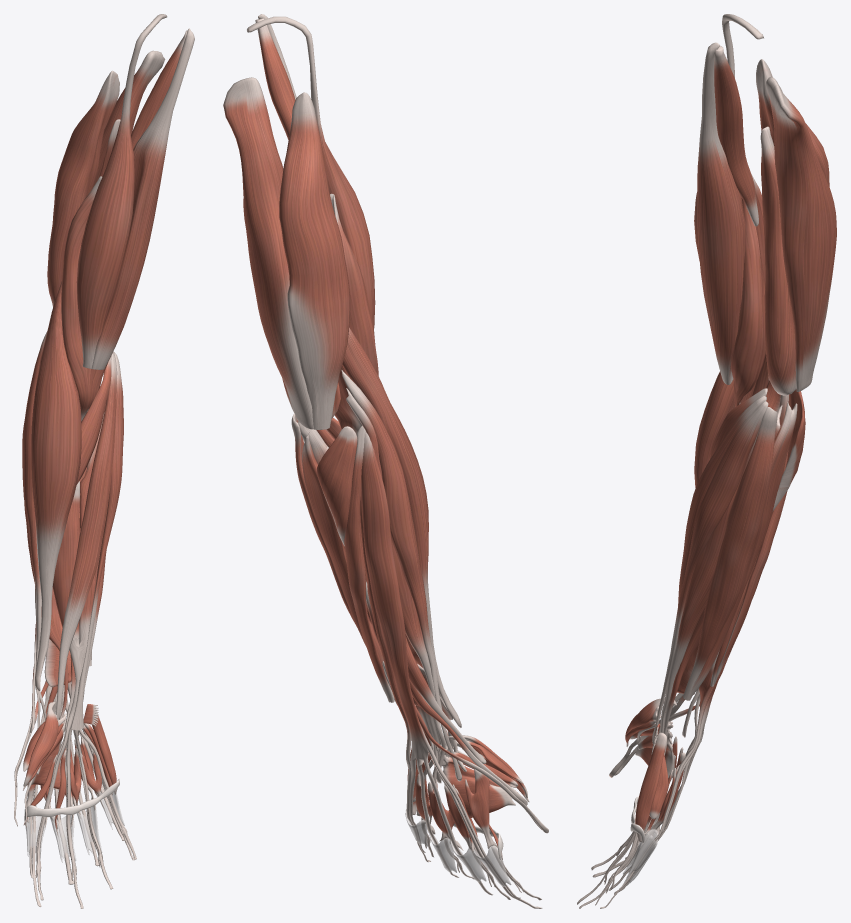
Rendered from aligned-upper-limb-muscular-01.glb.
3 views of the same model, side by side, from view 1: azimuth 30°, elevation 25°; view 2: azimuth 150°, elevation 25°; view 3: azimuth 270°, elevation 25° (orthographic). The views are drawn at different scales.
Visible parts, largest first — view 1: O3D_9e89c60e3ce5fd, O3D_4f05fbb6a5d880, O3D_7fe6b197454e19, O3D_3f43f7b57b2ec6, O3D_5e9e435e0b6f10, O3D_7323b5cf43fbce, O3D_fb440b163d8918, O3D_e4c41e680202dd, O3D_78041b7abde444, O3D_79e95492fe447a, O3D_e460fbdbbf3e1a, O3D_1ad320cb2b9dbf (+15 smaller); view 2: O3D_5e9e435e0b6f10, O3D_1ad320cb2b9dbf, O3D_e460fbdbbf3e1a, O3D_78041b7abde444, O3D_9e89c60e3ce5fd, O3D_4f05fbb6a5d880, O3D_c7940f27ad06f9, O3D_fb440b163d8918, O3D_2e79059d221fd7, O3D_5bf48100644f30, O3D_f44e08ea1e473d, O3D_def04b61de9843 (+9 smaller); view 3: O3D_1ad320cb2b9dbf, O3D_7fe6b197454e19, O3D_dbc8d5d864873b, O3D_4f4048b65ec332, O3D_fb440b163d8918, O3D_e4c41e680202dd, O3D_7323b5cf43fbce, O3D_def04b61de9843, O3D_5bf48100644f30, O3D_9e89c60e3ce5fd, O3D_3f43f7b57b2ec6, O3D_c7940f27ad06f9 (+11 smaller).
Part boxes in pixels (bbox=[...]): O3D_9e89c60e3ce5fd: bbox=[31, 281, 81, 690]; O3D_4f05fbb6a5d880: bbox=[76, 14, 167, 368]; O3D_7fe6b197454e19: bbox=[91, 28, 194, 369]; O3D_3f43f7b57b2ec6: bbox=[56, 351, 117, 731]; O3D_5e9e435e0b6f10: bbox=[47, 70, 119, 306]; O3D_7323b5cf43fbce: bbox=[36, 412, 127, 880]; O3D_fb440b163d8918: bbox=[61, 176, 112, 421]; O3D_e4c41e680202dd: bbox=[70, 352, 123, 730]; O3D_78041b7abde444: bbox=[22, 331, 47, 729]; O3D_79e95492fe447a: bbox=[52, 481, 79, 638]; O3D_e460fbdbbf3e1a: bbox=[22, 419, 124, 884]; O3D_1ad320cb2b9dbf: bbox=[93, 50, 165, 186]; O3D_5e9e435e0b6f10: bbox=[279, 92, 350, 429]; O3D_1ad320cb2b9dbf: bbox=[223, 77, 313, 429]; O3D_e460fbdbbf3e1a: bbox=[361, 425, 520, 898]; O3D_78041b7abde444: bbox=[341, 370, 461, 781]; O3D_9e89c60e3ce5fd: bbox=[342, 327, 461, 727]; O3D_4f05fbb6a5d880: bbox=[247, 16, 375, 327]; O3D_c7940f27ad06f9: bbox=[344, 425, 394, 702]; O3D_fb440b163d8918: bbox=[330, 193, 378, 439]; O3D_2e79059d221fd7: bbox=[317, 426, 357, 545]; O3D_5bf48100644f30: bbox=[302, 431, 396, 704]; O3D_f44e08ea1e473d: bbox=[346, 388, 445, 783]; O3D_def04b61de9843: bbox=[255, 18, 295, 139]; O3D_1ad320cb2b9dbf: bbox=[766, 76, 836, 391]; O3D_7fe6b197454e19: bbox=[697, 42, 745, 384]; O3D_dbc8d5d864873b: bbox=[683, 407, 777, 699]; O3D_4f4048b65ec332: bbox=[760, 126, 796, 395]; O3D_fb440b163d8918: bbox=[731, 174, 765, 406]; O3D_e4c41e680202dd: bbox=[652, 401, 768, 744]; O3D_7323b5cf43fbce: bbox=[604, 431, 758, 893]; O3D_def04b61de9843: bbox=[714, 45, 758, 226]; O3D_5bf48100644f30: bbox=[685, 402, 797, 700]; O3D_9e89c60e3ce5fd: bbox=[694, 371, 755, 487]; O3D_3f43f7b57b2ec6: bbox=[667, 396, 766, 744]; O3D_c7940f27ad06f9: bbox=[713, 396, 789, 685].
Size of the model in its own units: 0.1978 by 0.6954 by 0.1688.
Materials: 4 (4 with a texture image).
